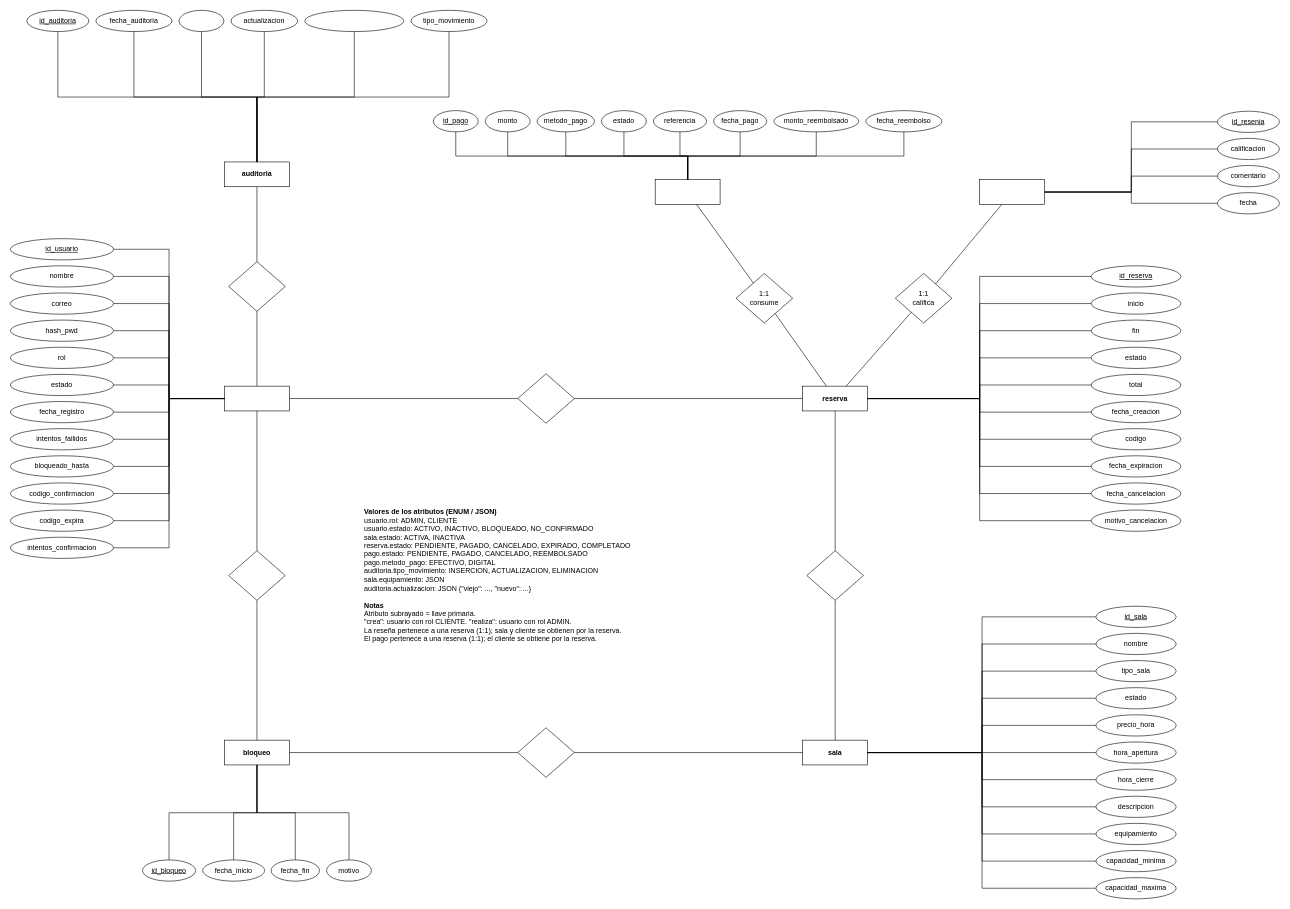
Image size: 1290x909. Some labels were removed from this diagram. The shapes that lost their labels are listed below. From the top down, each one's centre as x and y in pixels, then its label:
the point at 201,21: tabla
the point at 354,21: id_campo_actualizado
the point at 687,191: pago
the point at 1012,191: resenia
the point at 256,286: 1:N audita
the point at 256,398: usuario
the point at 545,398: 1:N crea
the point at 256,575: 1:N realiza
the point at 834,575: N:1 usa
the point at 545,752: N:1 bloquea
